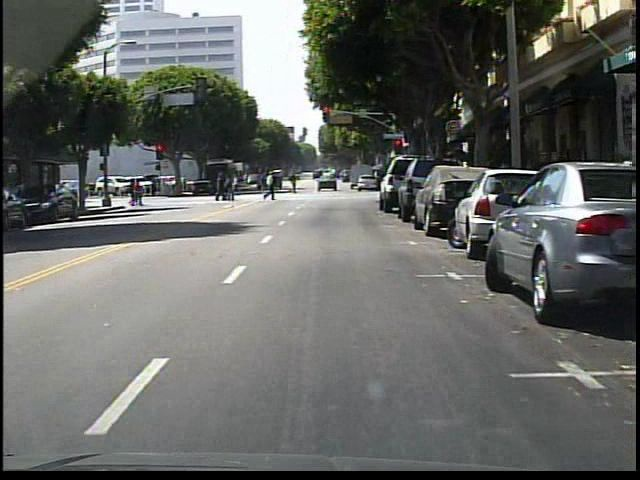person: (260, 168, 281, 204), (285, 169, 304, 198)
